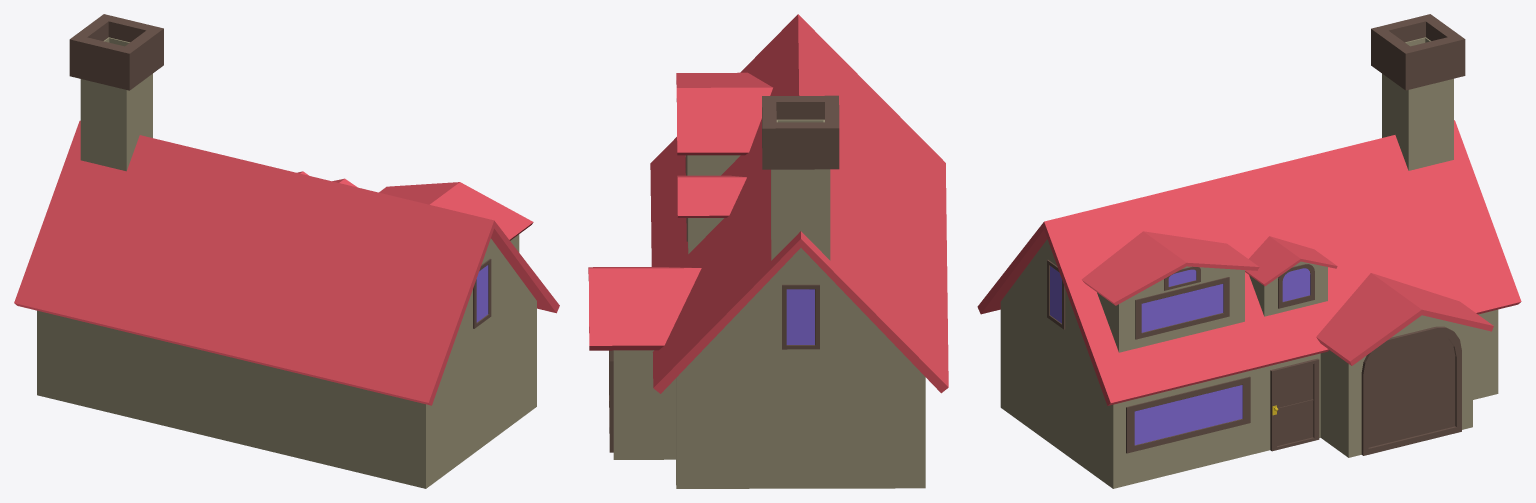
The model's file is CALLE7_CASA1_041.fbx.
The picture shows the model from 3 angles, left to right: view 1: azimuth 30°, elevation 25°; view 2: azimuth 150°, elevation 25°; view 3: azimuth 270°, elevation 25°; orthographic projection. The views are drawn at different scales.
Parts seen in each view (by area): view 1: CASA1.041; view 2: CASA1.041; view 3: CASA1.041.
Part boxes in pixels (x1,y1,x2,y2): CASA1.041: (14,14,559,488); CASA1.041: (588,14,948,488); CASA1.041: (977,14,1521,488).
Size of the model in its own units: 958 by 734 by 1114.
